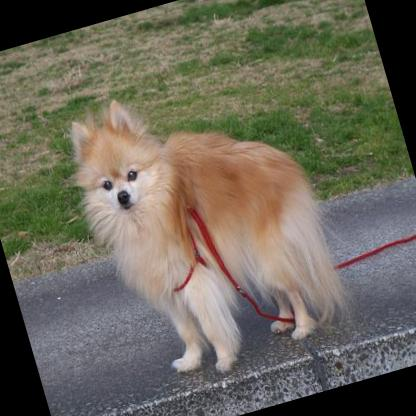Pomeranian: (46, 49, 366, 399)
